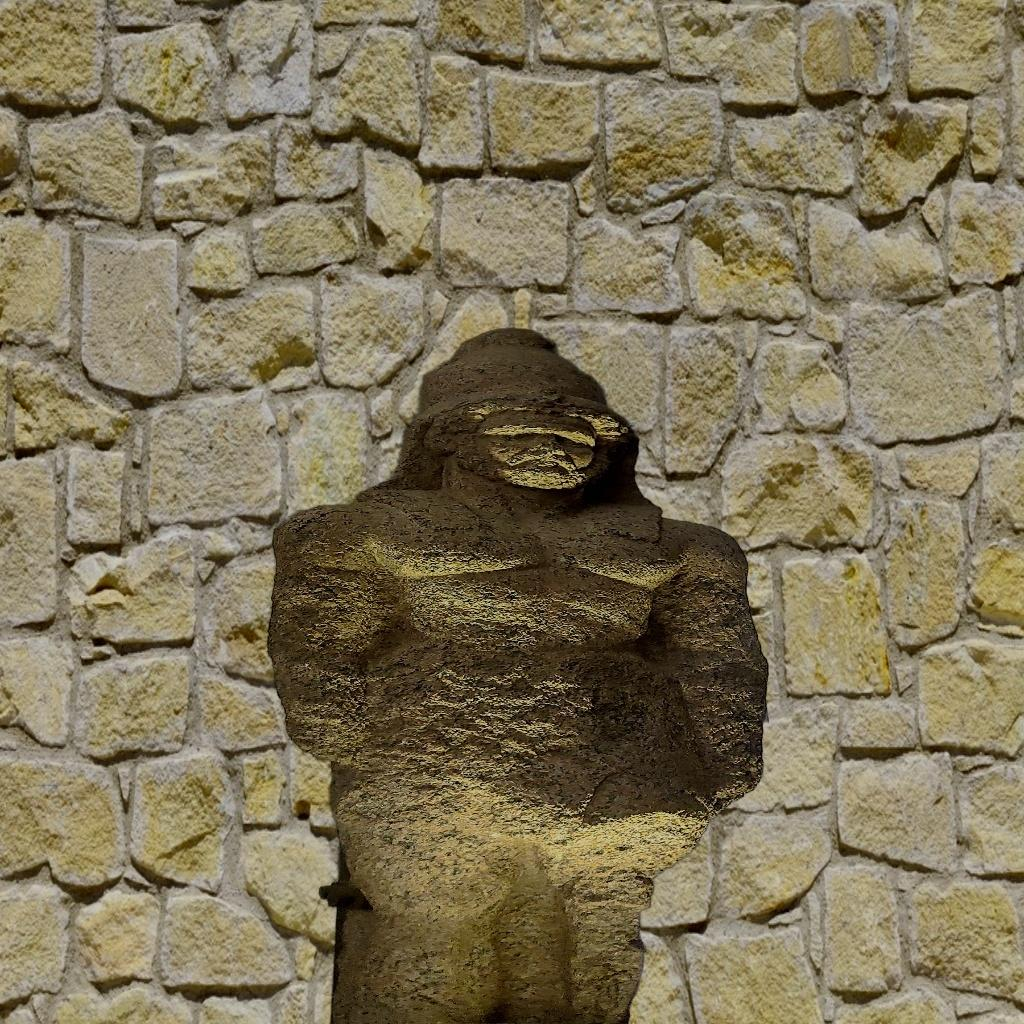Statue of Carcala: (258, 324, 776, 1024)
